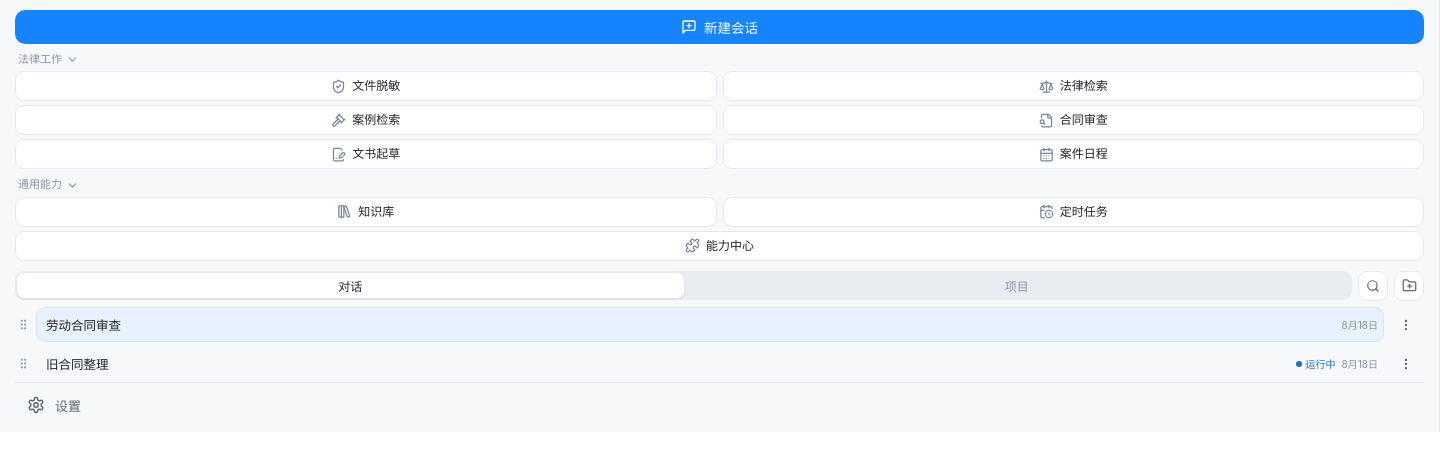
Test case: the magnifier reveals the search box and searches persisted conversations
Click the button named "搜索会话": (1373, 286) [1358, 271, 1388, 301]
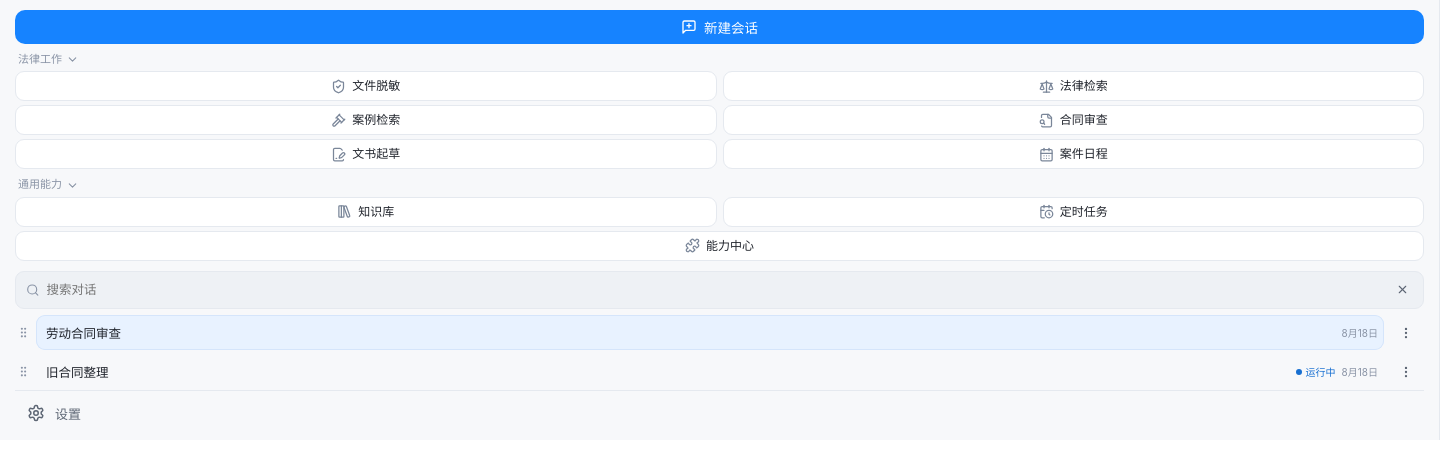
In the search field named "搜索会话": (715, 290) [46, 282, 1384, 297], type "劳动"
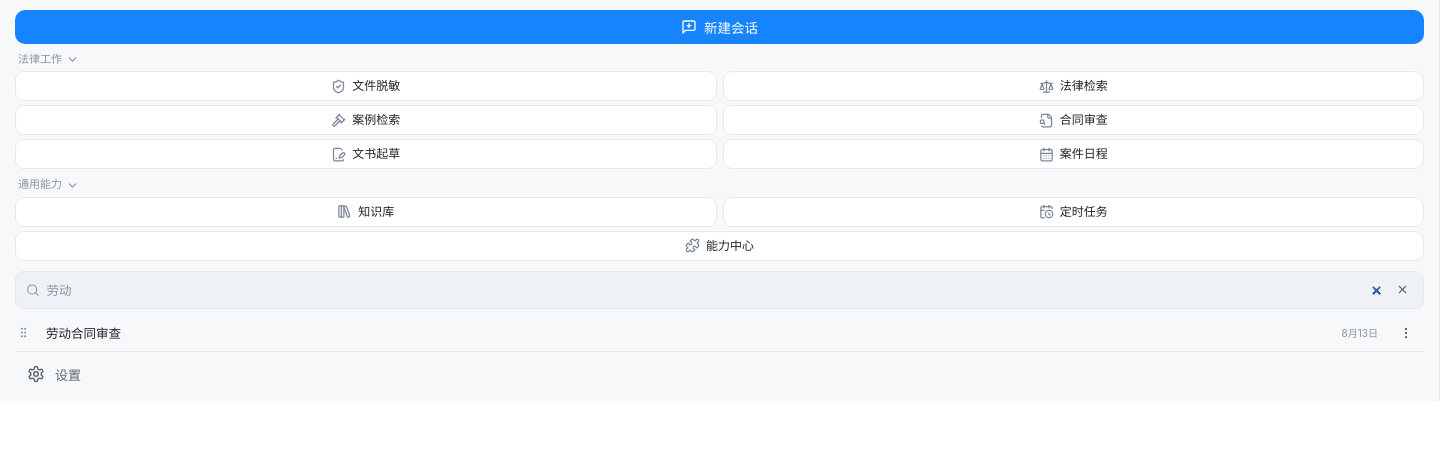
Result: the button "劳动合同审查 8月13日" is shown at [36, 315, 1384, 350]
Result: the button "旧合同整理" is gone
Click the button named "关闭搜索": (1402, 290) [1391, 279, 1413, 301]
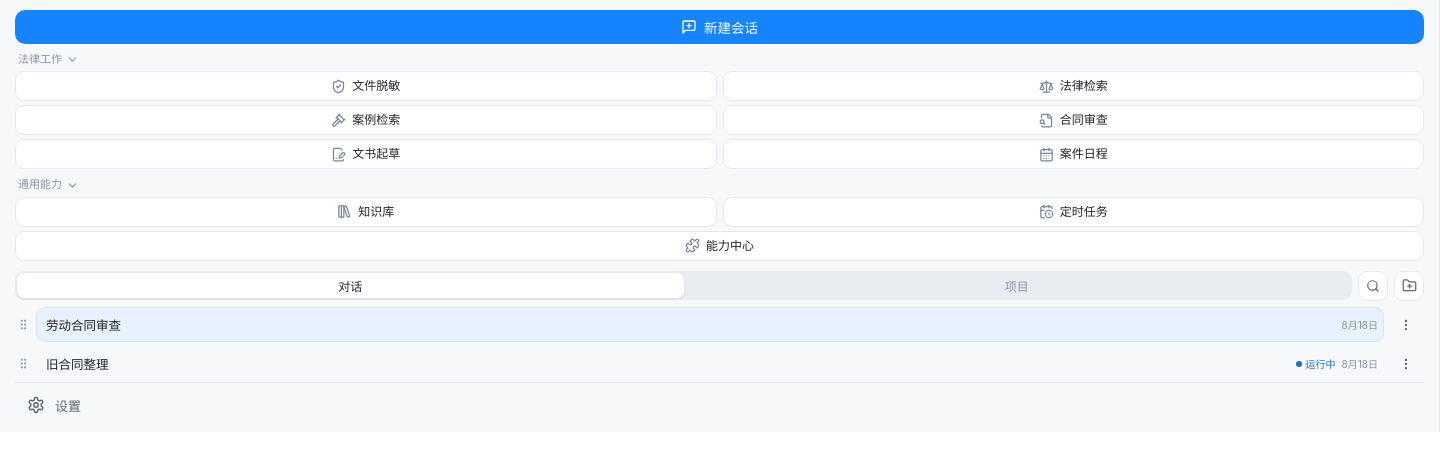
Result: the button "旧合同整理 运行中 8月18日" is shown at [36, 346, 1384, 381]
